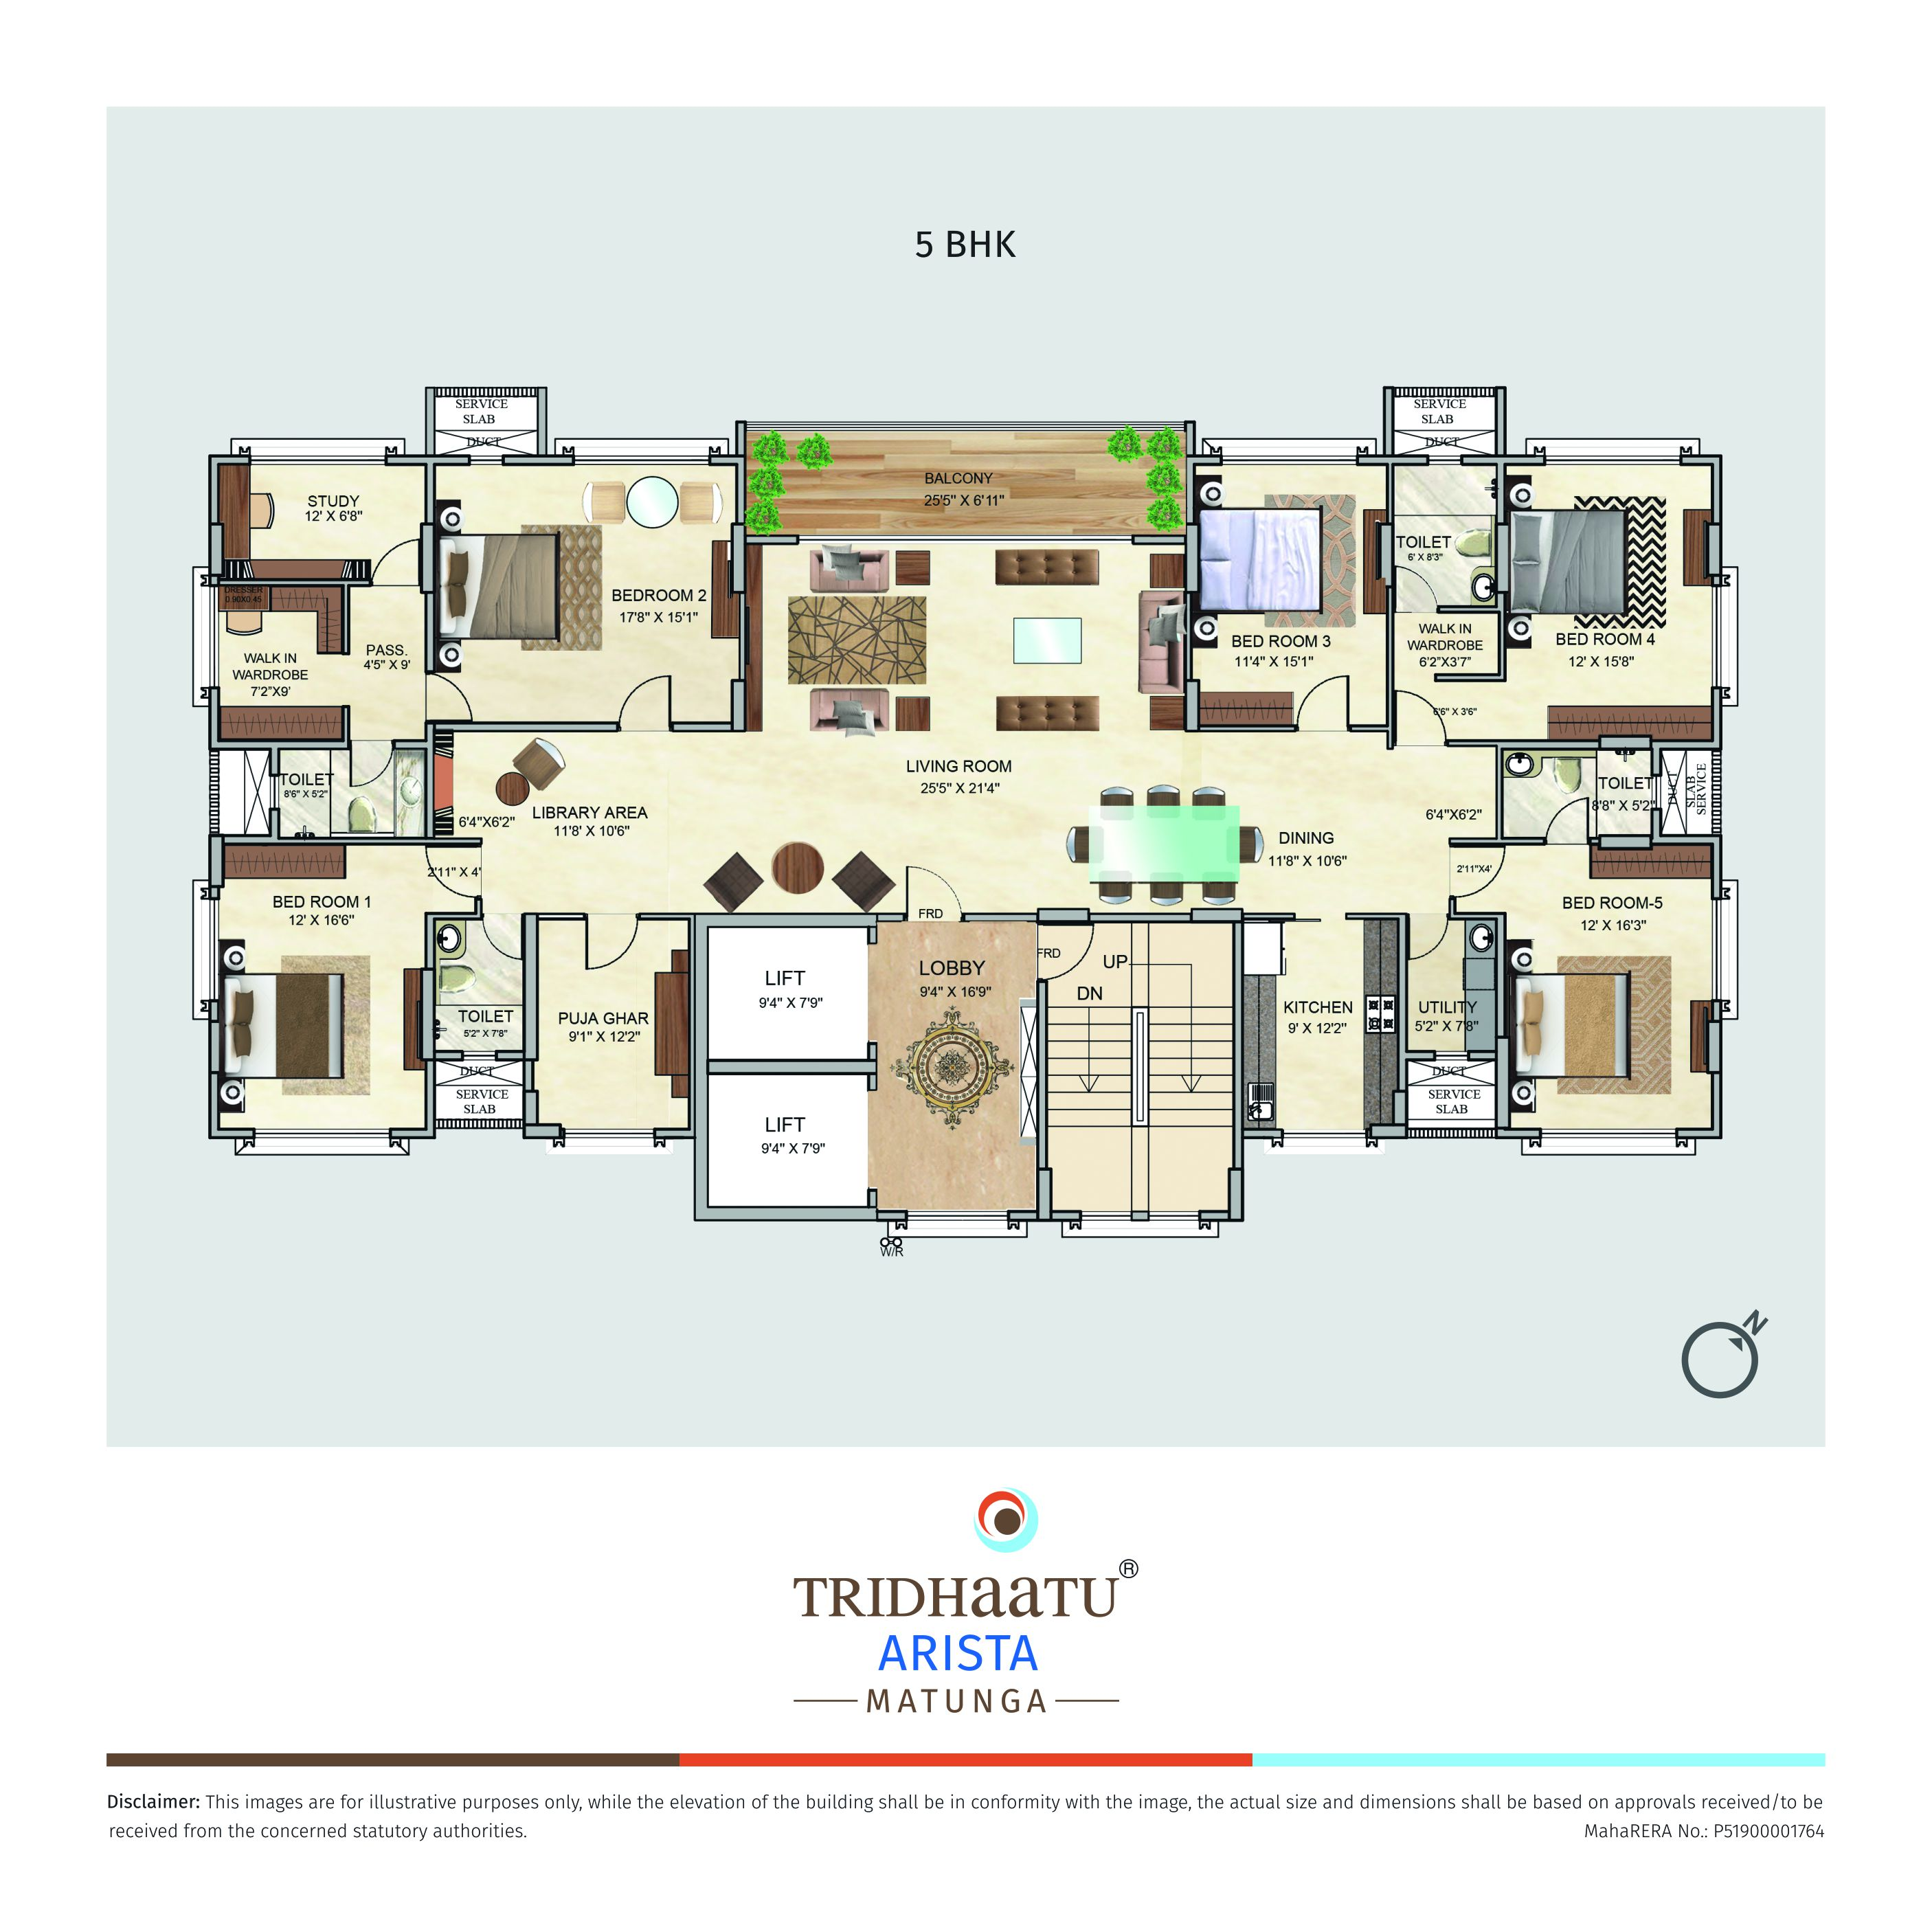window: (228, 433, 403, 465), (554, 437, 729, 467), (234, 1127, 409, 1157), (1201, 437, 1376, 467), (1527, 437, 1702, 467), (1520, 1127, 1695, 1157), (191, 566, 225, 711), (191, 878, 225, 1023), (1709, 564, 1739, 706), (1060, 1212, 1217, 1238), (1711, 878, 1739, 1019), (888, 1208, 1028, 1237), (552, 1122, 665, 1152)
